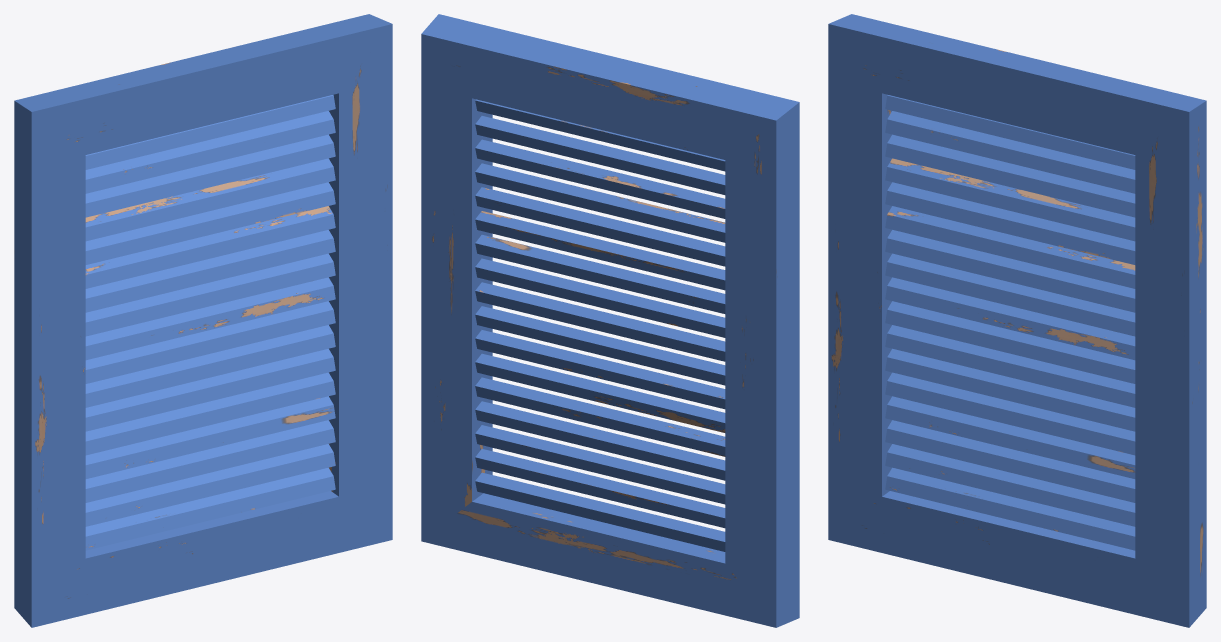
Rendered from Shutter_75cm.fbx.
The picture shows the model from 3 angles, left to right: view 1: azimuth 30°, elevation 25°; view 2: azimuth 150°, elevation 25°; view 3: azimuth 330°, elevation 25°; orthographic projection.
Visible parts, largest first — view 1: Shutter_75cm; view 2: Shutter_75cm; view 3: Shutter_75cm.
Part boxes in pixels (bbox=[...]): Shutter_75cm: bbox=[14, 14, 392, 627]; Shutter_75cm: bbox=[421, 14, 799, 627]; Shutter_75cm: bbox=[828, 14, 1206, 627].
Bounding box in the file's own units: 53.41 × 72.95 × 5.24.
1 material, 1 textured.
